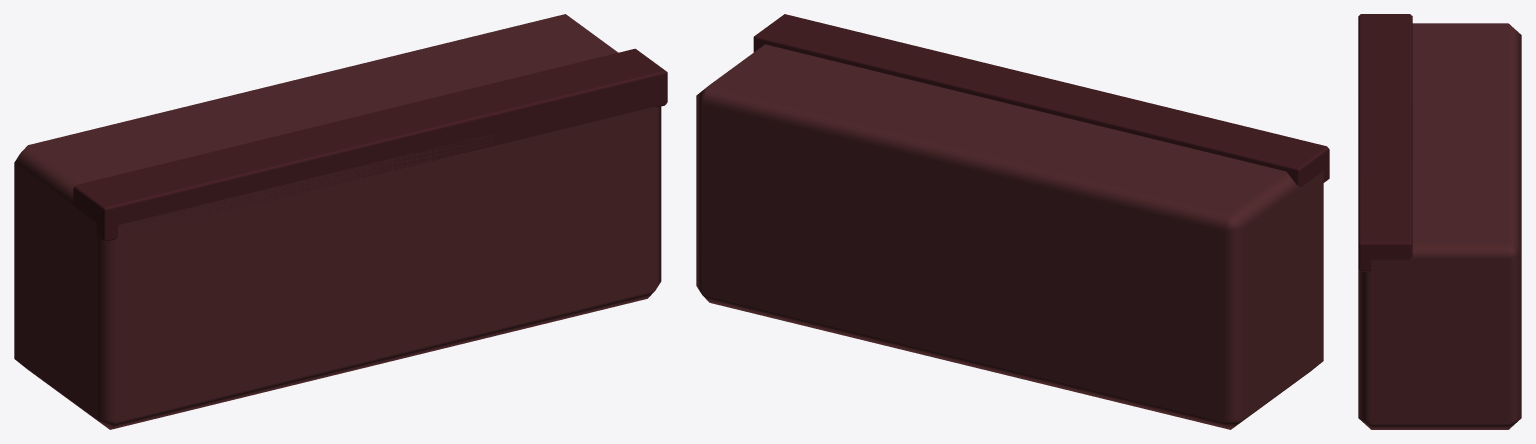
The model's file is living-cave-stair-riser.14ee5f29.glb.
3 views of the same model, side by side, from view 1: azimuth 30°, elevation 25°; view 2: azimuth 150°, elevation 25°; view 3: azimuth 270°, elevation 25° (orthographic). The views are drawn at different scales.
Visible parts, largest first — view 1: body; view 2: body; view 3: body.
Part boxes in pixels (<box>): body: <box>14,14,667,429</box>; body: <box>696,14,1329,429</box>; body: <box>1358,14,1521,429</box>.
Bounding box in the file's own units: 1 × 0.39 × 0.3.
